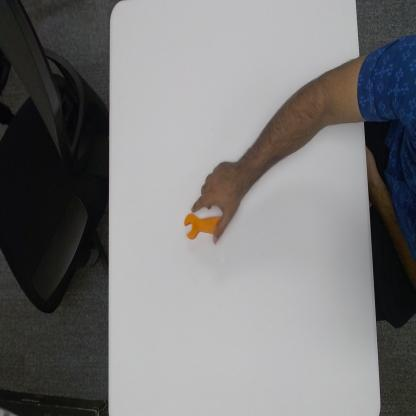Arm: (245, 45, 360, 187)
Hand: (193, 156, 247, 244)
Screwdriver: (182, 210, 220, 242)
